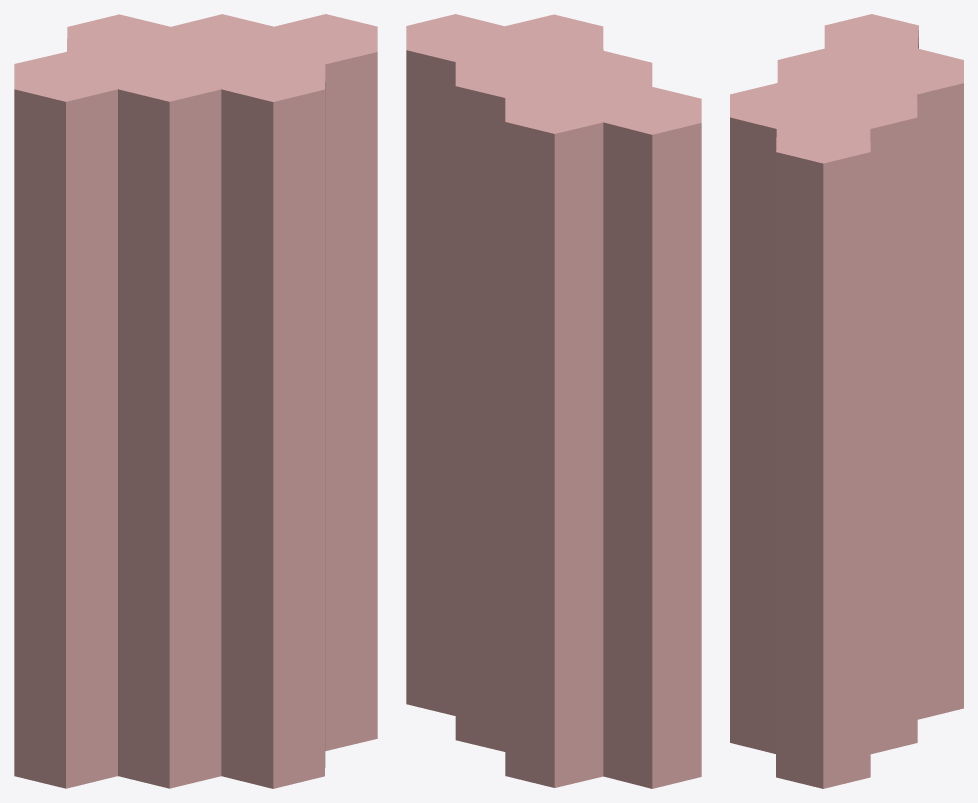
The model's file is level04_CastleBridge_02.fbx.
3 views of the same model, side by side, from view 1: azimuth 30°, elevation 25°; view 2: azimuth 150°, elevation 25°; view 3: azimuth 270°, elevation 25° (orthographic). The views are drawn at different scales.
Visible parts, largest first — view 1: level04_CastleBridge_02; view 2: level04_CastleBridge_02; view 3: level04_CastleBridge_02.
Part boxes in pixels (box(x1,y1,x2,y2)): level04_CastleBridge_02: box(14, 14, 377, 788); level04_CastleBridge_02: box(406, 14, 701, 788); level04_CastleBridge_02: box(730, 14, 963, 788).
Bounding box in the file's own units: 769 × 1498 × 508.
